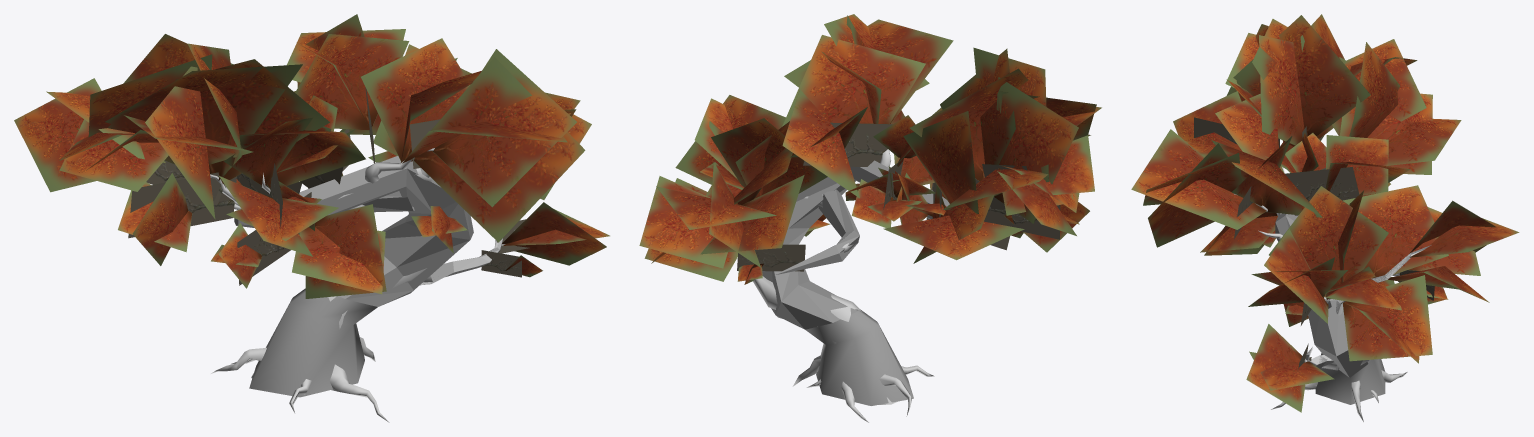
The model's file is JiaYeSiWai1_WaiBoShu_1.FBX.
3 views of the same model, side by side, from view 1: azimuth 30°, elevation 25°; view 2: azimuth 150°, elevation 25°; view 3: azimuth 270°, elevation 25° (orthographic). The views are drawn at different scales.
Parts seen in each view (by area): view 1: JiaYeSiWai1_WaiBoShu_1a, JiaYeSiWai1_WaiBoShu_1a_Xzm, JiaYeSiWai1_WaiBoShu_1b; view 2: JiaYeSiWai1_WaiBoShu_1a, JiaYeSiWai1_WaiBoShu_1a_Xzm, JiaYeSiWai1_WaiBoShu_1b; view 3: JiaYeSiWai1_WaiBoShu_1a, JiaYeSiWai1_WaiBoShu_1a_Xzm, JiaYeSiWai1_WaiBoShu_1b.
Boxes of the visible parts, <box> form: JiaYeSiWai1_WaiBoShu_1a: <box>14,14,609,298</box>; JiaYeSiWai1_WaiBoShu_1a_Xzm: <box>234,156,503,397</box>; JiaYeSiWai1_WaiBoShu_1b: <box>210,148,505,422</box>; JiaYeSiWai1_WaiBoShu_1a: <box>639,14,1101,284</box>; JiaYeSiWai1_WaiBoShu_1a_Xzm: <box>762,160,949,405</box>; JiaYeSiWai1_WaiBoShu_1b: <box>753,149,934,422</box>; JiaYeSiWai1_WaiBoShu_1a: <box>1131,14,1519,412</box>; JiaYeSiWai1_WaiBoShu_1a_Xzm: <box>1275,213,1430,404</box>; JiaYeSiWai1_WaiBoShu_1b: <box>1234,167,1425,421</box>.
Size of the model in its own units: 2651 by 2020 by 2190.
